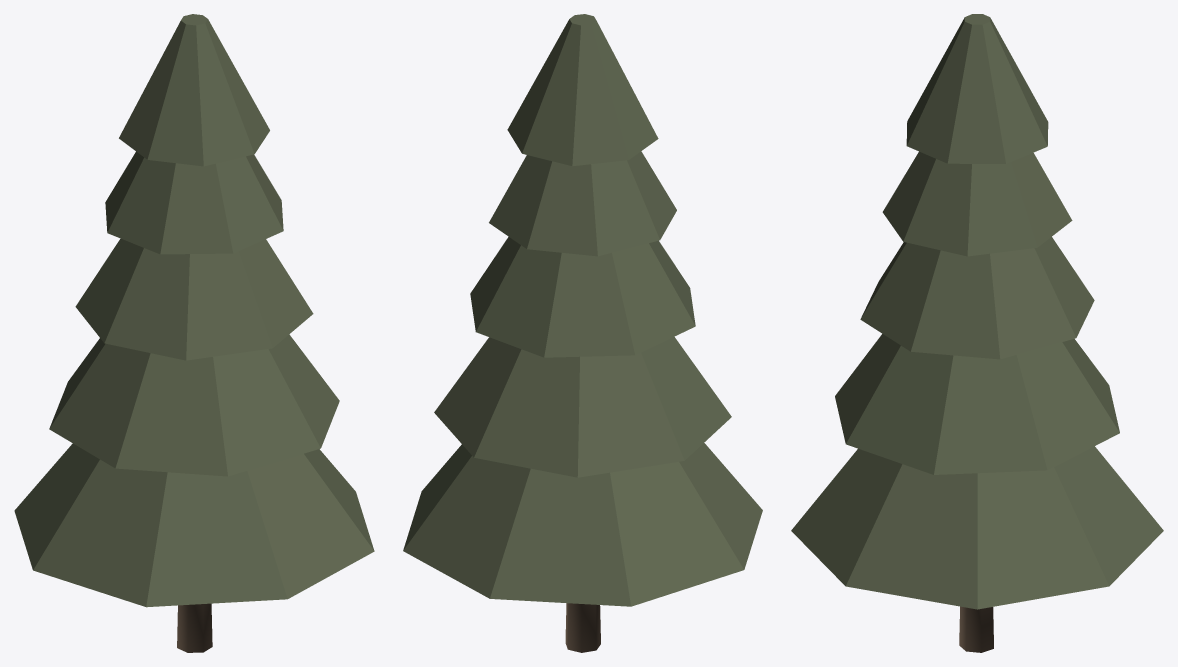
The model's file is SM_SB_Kit_Pine.fbx.
The picture shows the model from 3 angles, left to right: view 1: azimuth 30°, elevation 25°; view 2: azimuth 150°, elevation 25°; view 3: azimuth 270°, elevation 25°; orthographic projection.
Visible parts, largest first — view 1: SM_SB_Kit_Pine; view 2: SM_SB_Kit_Pine; view 3: SM_SB_Kit_Pine.
Boxes of the visible parts, x1=… form: SM_SB_Kit_Pine: x1=14, y1=14, x2=374, y2=652; SM_SB_Kit_Pine: x1=403, y1=14, x2=762, y2=652; SM_SB_Kit_Pine: x1=791, y1=14, x2=1163, y2=652.
Bounding box in the file's own units: 1120 × 1120 × 2074.
